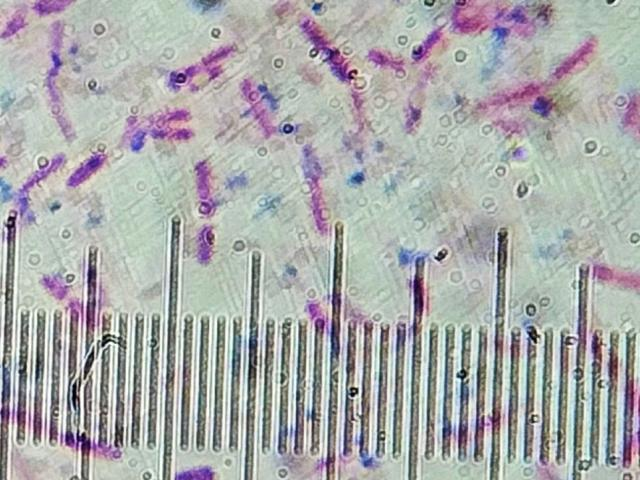E. coli: (239, 69, 278, 147), (301, 15, 350, 77), (176, 45, 238, 87), (553, 33, 605, 82), (299, 155, 329, 227), (481, 79, 540, 111), (66, 152, 113, 186), (48, 86, 82, 133), (22, 155, 68, 189), (592, 259, 640, 291), (126, 102, 193, 122), (139, 125, 192, 150), (191, 222, 218, 267), (346, 90, 374, 133), (401, 75, 426, 123), (412, 22, 442, 59), (188, 159, 212, 205), (48, 22, 71, 70), (172, 456, 217, 480), (79, 433, 120, 459), (619, 93, 640, 141), (0, 5, 24, 46), (39, 267, 70, 298), (362, 45, 393, 64), (292, 299, 318, 317)
